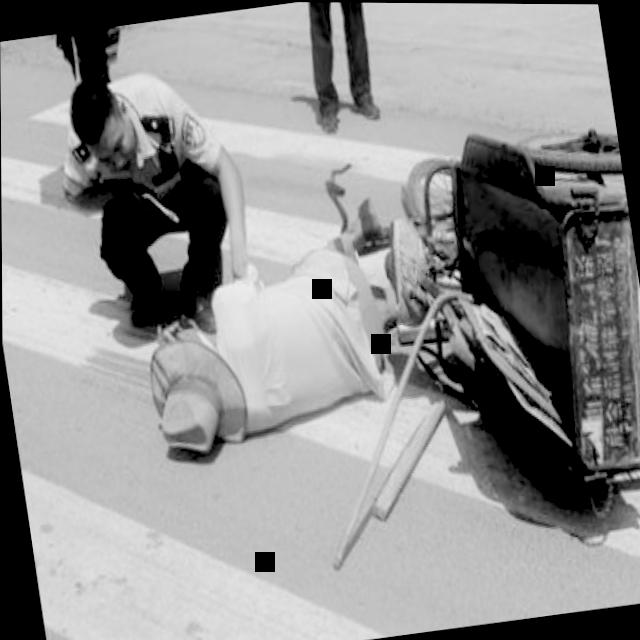Fall-Detected: (131, 188, 444, 473)
